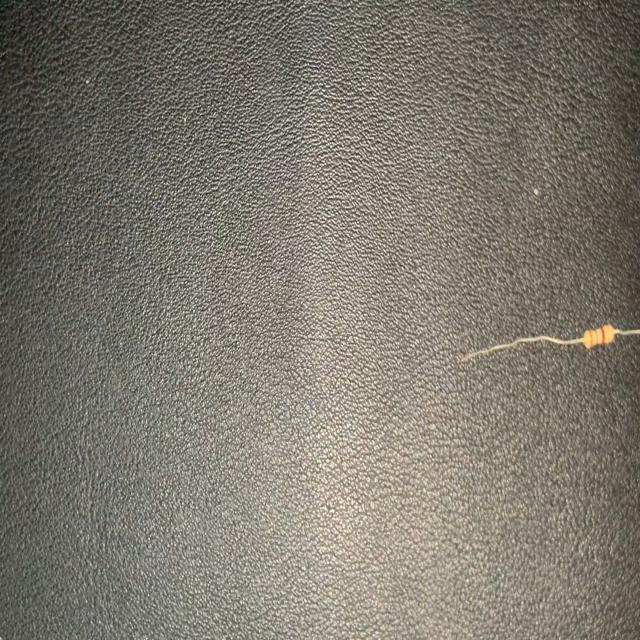resistor: (458, 313, 640, 372)
